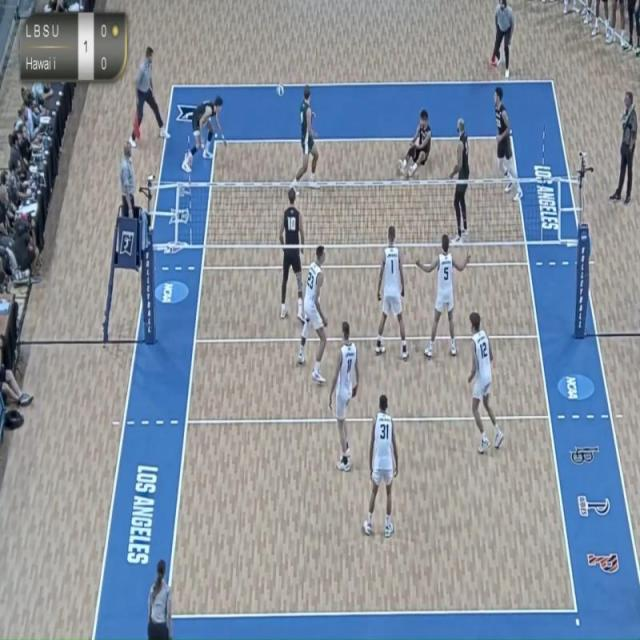volleyball: (274, 80, 286, 101)
